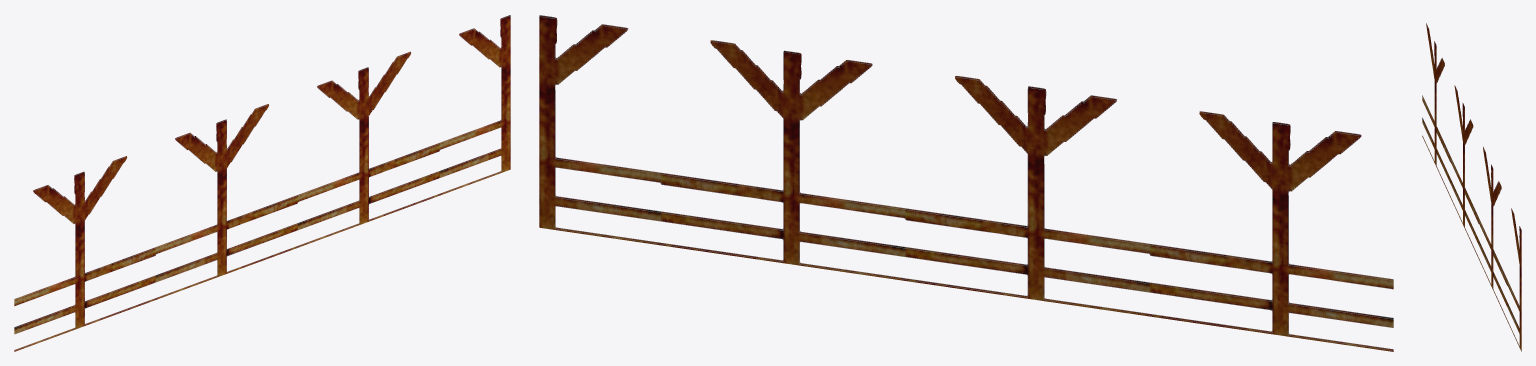
Rendered from 西庸城堡7.dae.
The picture shows the model from 3 angles, left to right: view 1: azimuth 30°, elevation 25°; view 2: azimuth 150°, elevation 25°; view 3: azimuth 270°, elevation 25°; orthographic projection. The views are drawn at different scales.
Parts seen in each view (by area): view 1: SketchUp; view 2: SketchUp; view 3: SketchUp.
Boxes of the visible parts, left/top/right/bottom form: SketchUp: left=14, top=15, right=510, bottom=351; SketchUp: left=539, top=15, right=1393, bottom=351; SketchUp: left=1422, top=23, right=1521, bottom=351.
Bounding box in the file's own units: 529 × 103 × 141.
Materials: 1 (1 with a texture image).
